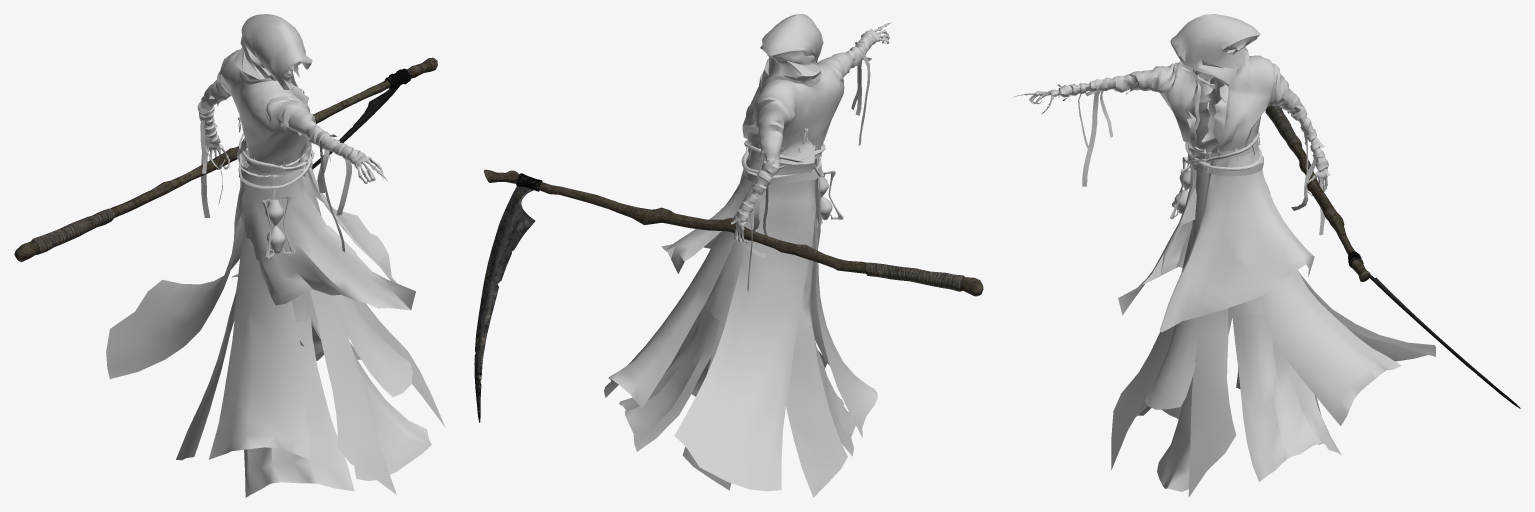
The picture shows the model from 3 angles, left to right: view 1: azimuth 30°, elevation 25°; view 2: azimuth 150°, elevation 25°; view 3: azimuth 270°, elevation 25°; orthographic projection. The views are drawn at different scales.
Parts seen in each view (by area): view 1: judge_reaper_body.2_2, judge_reaper_scythe.1_1; view 2: judge_reaper_body.2_2, judge_reaper_scythe.1_1; view 3: judge_reaper_body.2_2, judge_reaper_scythe.1_1.
Part boxes in pixels (x1=…): judge_reaper_body.2_2: x1=106, y1=14, x2=445, y2=497; judge_reaper_scythe.1_1: x1=14, y1=57, x2=437, y2=262; judge_reaper_body.2_2: x1=604, y1=14, x2=891, y2=497; judge_reaper_scythe.1_1: x1=474, y1=169, x2=983, y2=422; judge_reaper_body.2_2: x1=1012, y1=14, x2=1435, y2=497; judge_reaper_scythe.1_1: x1=1265, y1=105, x2=1520, y2=408.
Size of the model in its own units: 0.0808 by 0.0756 by 0.0809.
